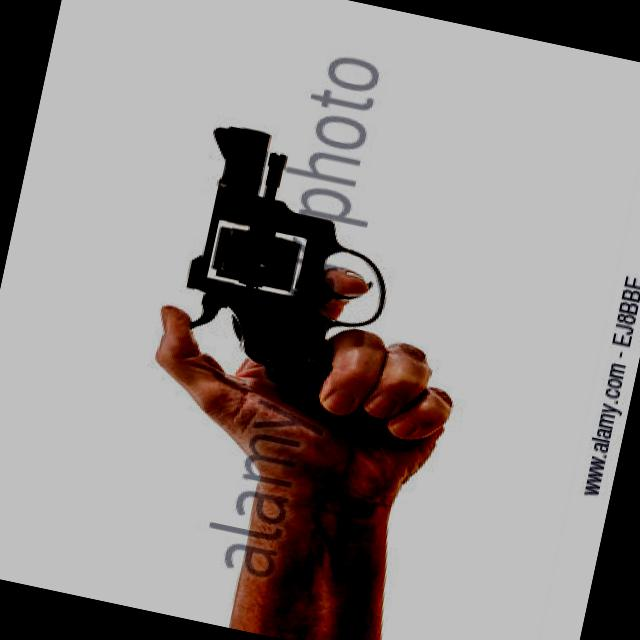handgun: (148, 119, 474, 455)
